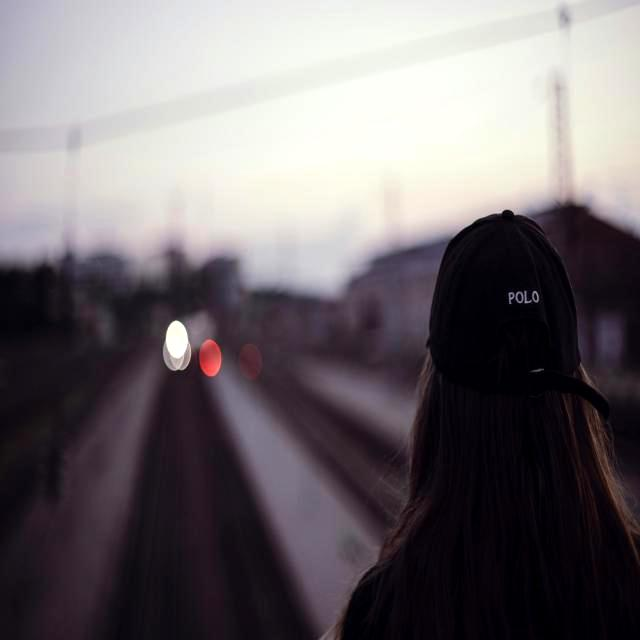no_hard_hat: (427, 210, 610, 419)
person: (335, 210, 640, 640)
